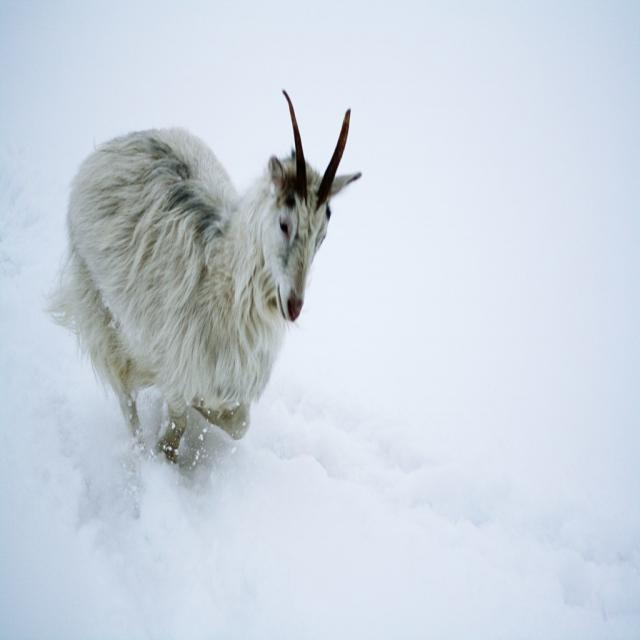Goat: (44, 86, 363, 494)
